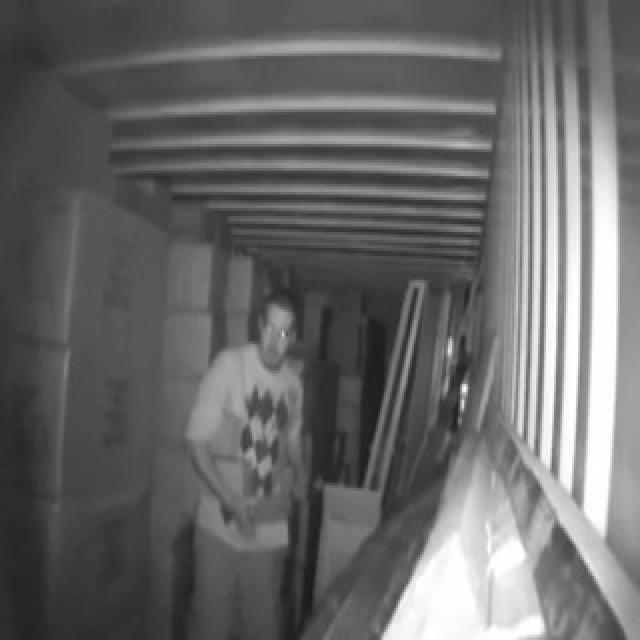thief: (194, 288, 307, 626)
